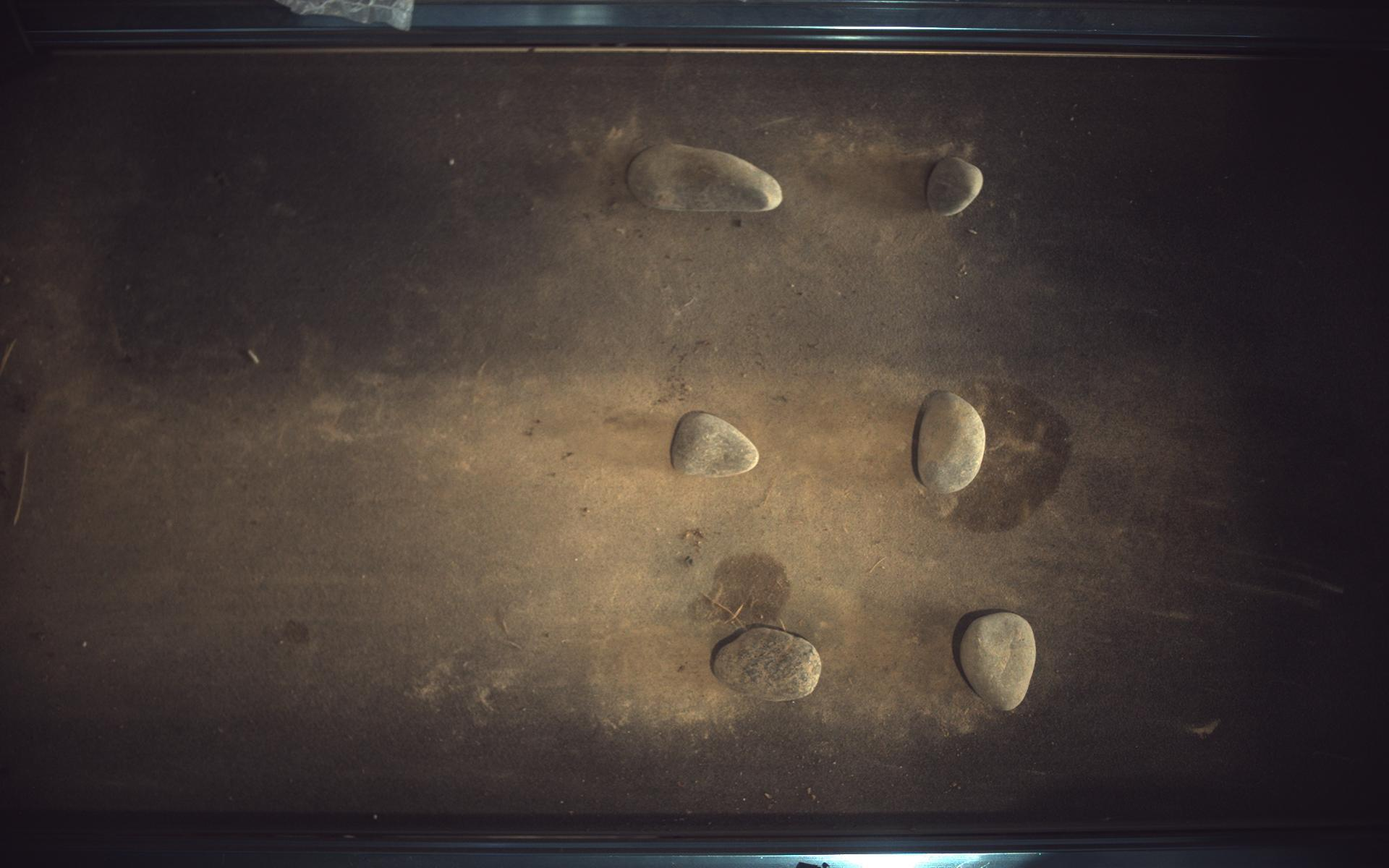stone: (629, 143, 784, 211), (713, 626, 823, 702), (959, 613, 1038, 712), (914, 391, 987, 495), (672, 412, 760, 477), (929, 156, 985, 216)
